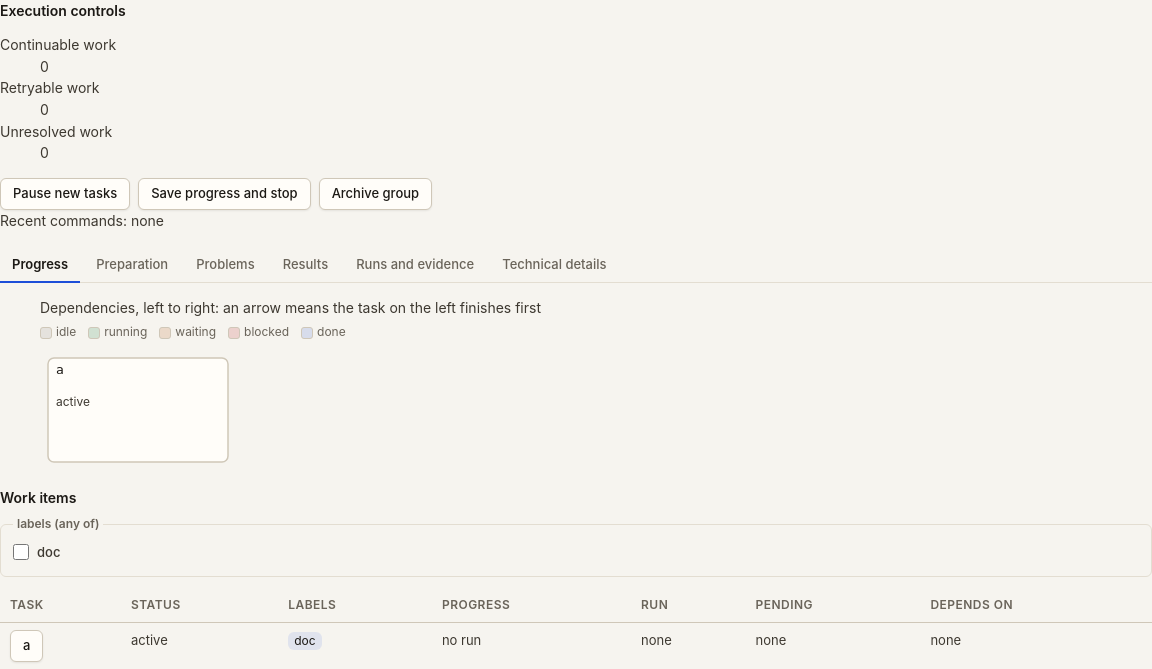
Test: a label draft is sent with the labelsVersion it started from (final review finding 1) › reads a draft in the earlier bare-array form, which has no base, as no draft
The width and height of the screenshot is (1152, 669).
(page scrolled)
Click the button "a".
click(27, 646)  # box top-left (10, 630), bottom-right (43, 662)
(page scrolled)
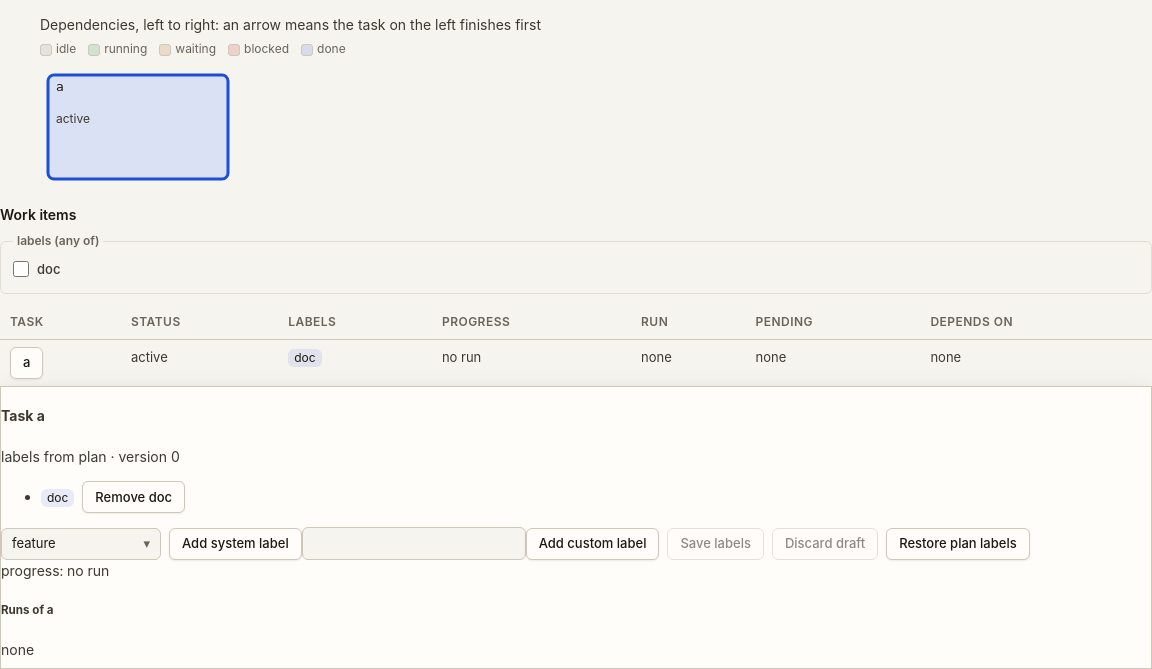
Check: the button "Remove doc" is shown, box top-left (82, 481), bottom-right (185, 513)
Check: the button "Save labels" is disabled, box top-left (667, 528), bottom-right (764, 560)
